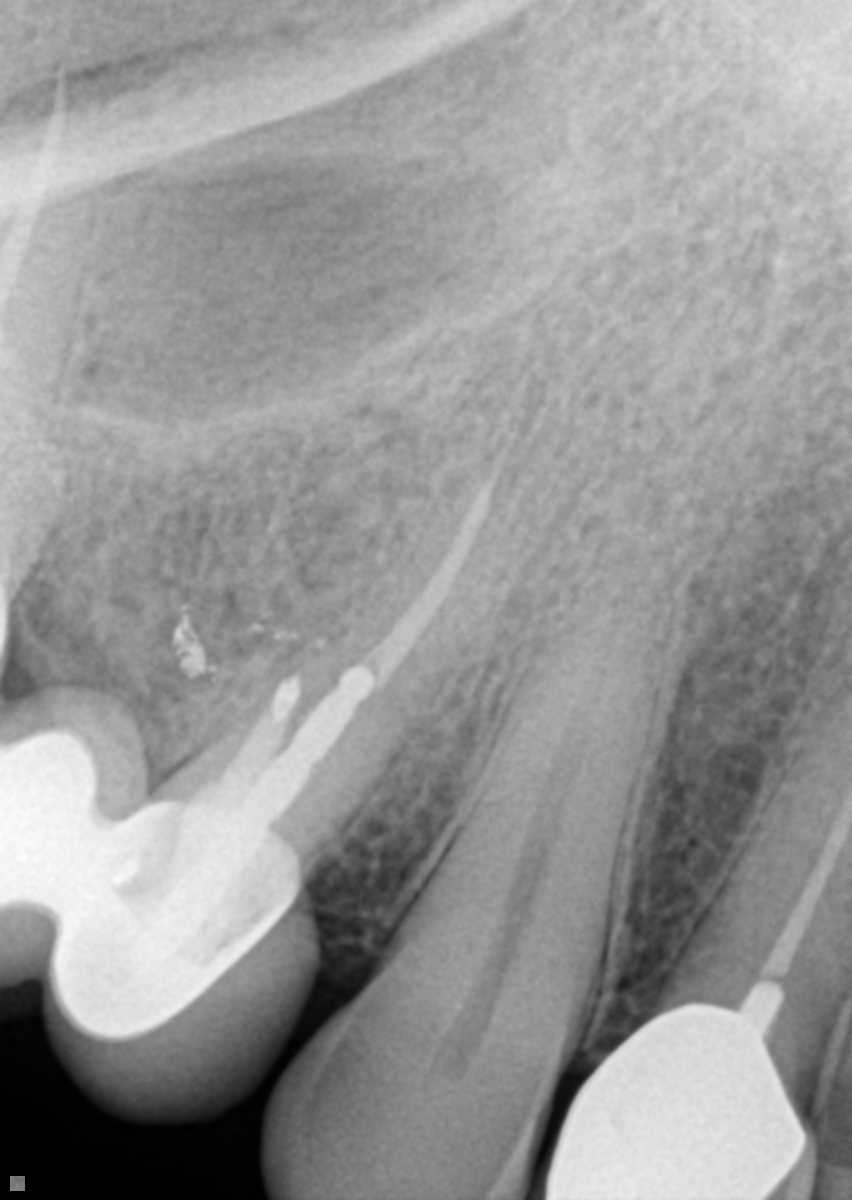Main Canal: (453, 548, 663, 1027)
Main Root: (391, 542, 684, 1036), (197, 451, 517, 871), (651, 680, 852, 1107), (0, 21, 97, 610)
Root Canal Filling: (367, 453, 503, 690), (742, 804, 852, 1027), (199, 705, 289, 823)
